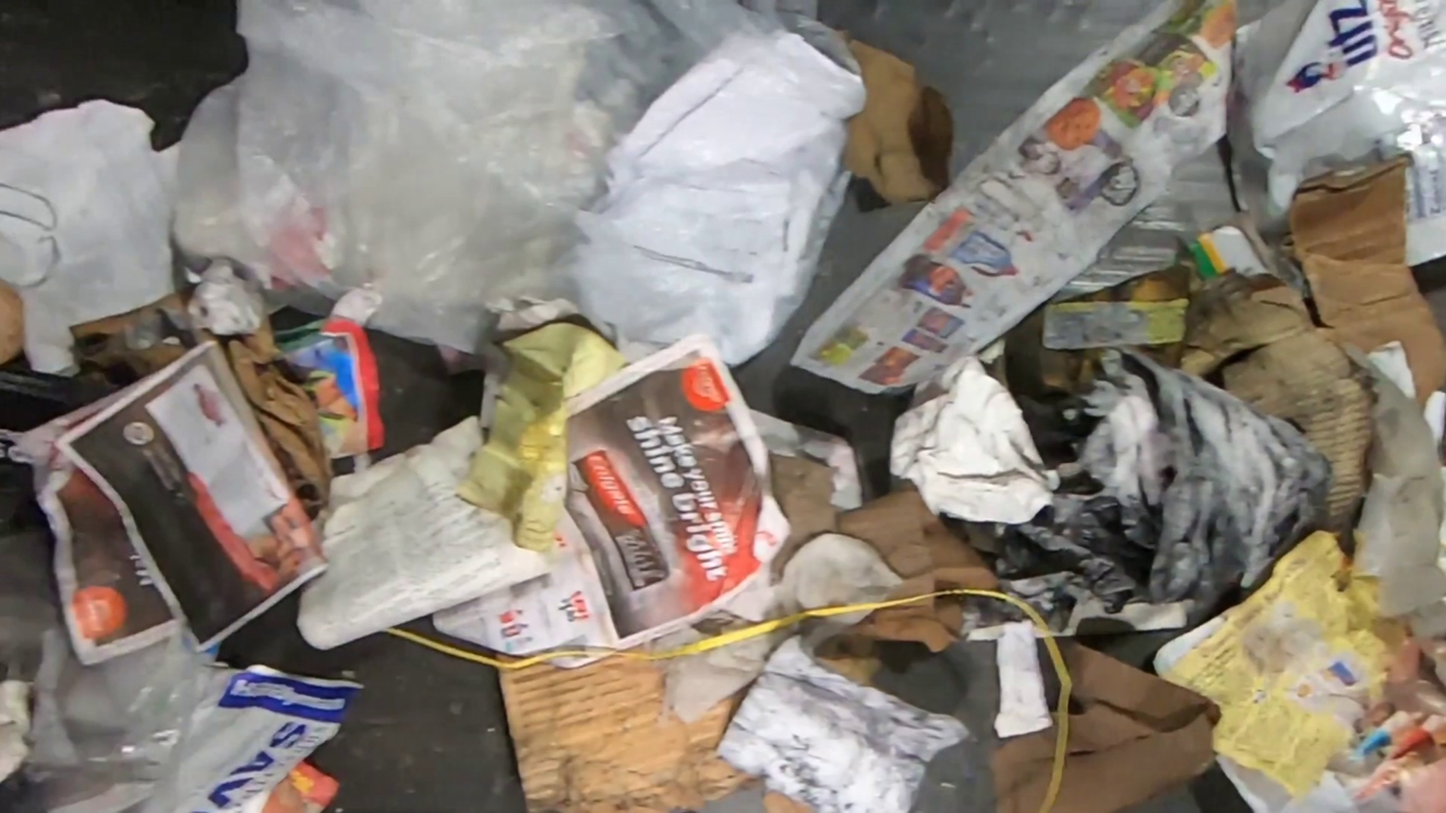cardboard: (1005, 159, 1446, 556), (497, 642, 760, 812), (987, 640, 1222, 811), (811, 634, 886, 686)
plastic: (175, 2, 879, 370), (0, 527, 234, 813), (1231, 0, 1446, 266)
